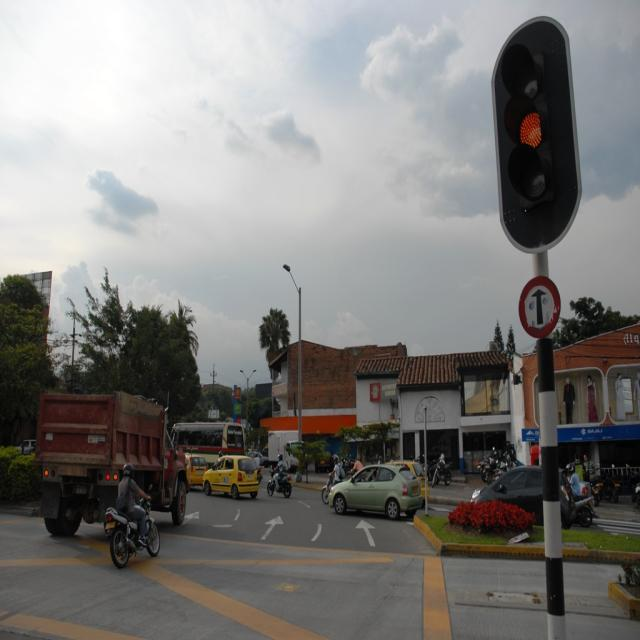traffic light: (485, 20, 576, 246)
